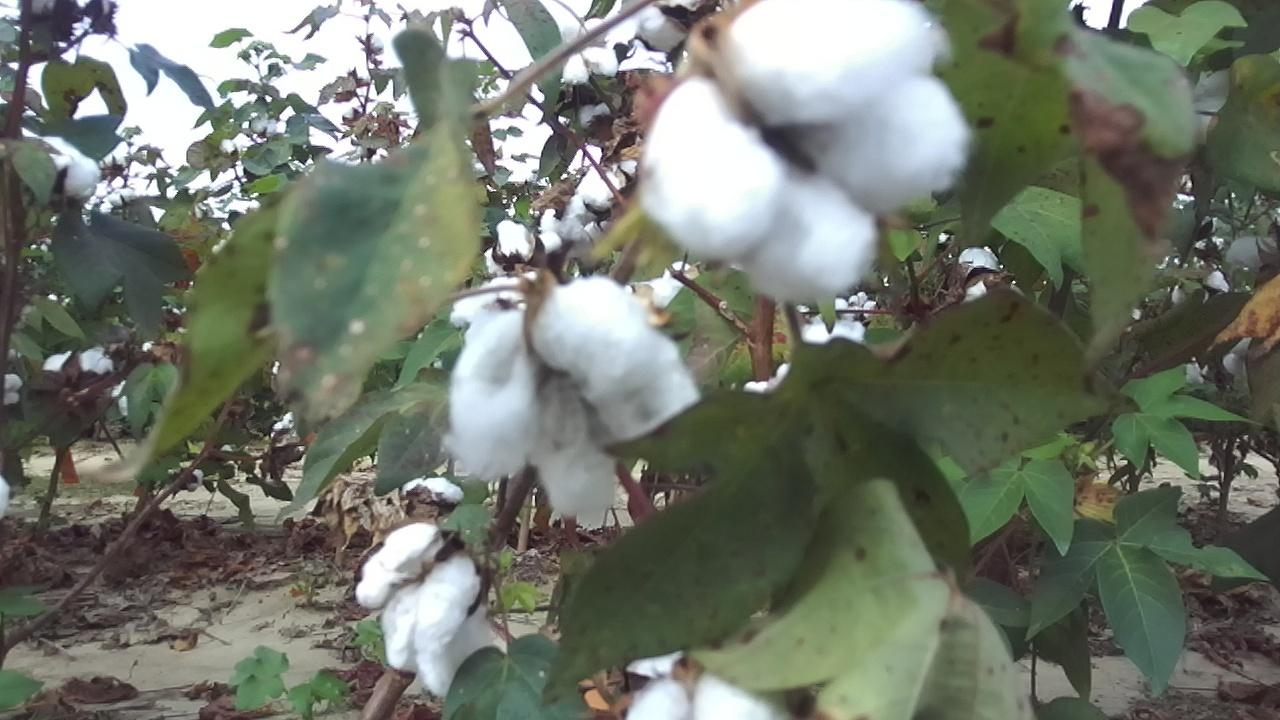cotton_ready: (647, 0, 972, 304), (452, 277, 693, 524), (354, 523, 487, 695), (628, 649, 807, 720), (744, 317, 865, 394), (1157, 48, 1239, 150), (19, 127, 100, 195), (484, 220, 559, 277), (639, 0, 712, 55), (561, 16, 619, 84), (580, 155, 640, 214), (545, 193, 601, 240), (404, 477, 463, 521), (960, 249, 1002, 306), (43, 345, 112, 379)
